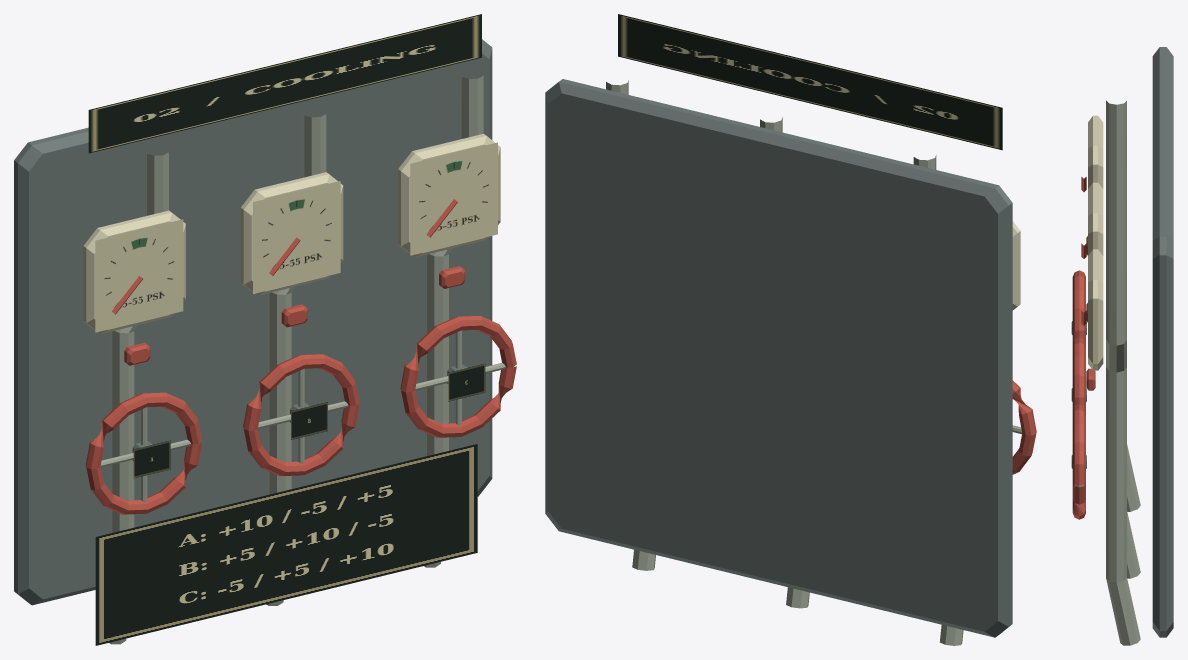
The model's file is pressure-station.glb.
The picture shows the model from 3 angles, left to right: view 1: azimuth 30°, elevation 25°; view 2: azimuth 150°, elevation 25°; view 3: azimuth 270°, elevation 25°; orthographic projection. The views are drawn at different scales.
Visible parts, largest first — view 1: PipeBackplate, CouplingClue, DialFace (×3), PressureTitle, CoolingLine_2, CoolingLine_0, CoolingLine_1, Valve_1_rim, Valve_2_rim, Valve_0_rim, Gauge_1, Gauge_2 (+7 smaller); view 2: PipeBackplate, PressureTitle, Valve_0_rim, Gauge_0; view 3: PipeBackplate, CoolingLine_2, CoolingLine_1, CoolingLine_0, Gauge_2, Valve_2_rim, Gauge_0, Gauge_1, Valve_1_rim, Valve_0_rim, PressureIndicator_2.
Part boxes in pixels (x1=…): PipeBackplate: x1=14, y1=39, x2=492, y2=605; CouplingClue: x1=95, y1=444, x2=477, y2=645; DialFace (×3): x1=95, y1=142, x2=497, y2=332; PressureTitle: x1=88, y1=14, x2=481, y2=153; CoolingLine_2: x1=424, y1=73, x2=483, y2=567; CoolingLine_0: x1=109, y1=150, x2=168, y2=644; CoolingLine_1: x1=266, y1=112, x2=326, y2=605; Valve_1_rim: x1=243, y1=354, x2=359, y2=476; Valve_2_rim: x1=400, y1=316, x2=516, y2=437; Valve_0_rim: x1=85, y1=392, x2=201, y2=514; Gauge_1: x1=240, y1=172, x2=343, y2=295; Gauge_2: x1=398, y1=133, x2=500, y2=257; PipeBackplate: x1=545, y1=79, x2=1012, y2=637; PressureTitle: x1=618, y1=14, x2=1002, y2=150; Valve_0_rim: x1=1012, y1=380, x2=1036, y2=474; Gauge_0: x1=1012, y1=221, x2=1020, y2=310; PipeBackplate: x1=1152, y1=47, x2=1173, y2=637; CoolingLine_2: x1=1106, y1=234, x2=1140, y2=645; CoolingLine_1: x1=1106, y1=167, x2=1140, y2=578; CoolingLine_0: x1=1106, y1=100, x2=1140, y2=511; Gauge_2: x1=1088, y1=249, x2=1103, y2=370; Valve_2_rim: x1=1072, y1=404, x2=1085, y2=519; Gauge_0: x1=1088, y1=115, x2=1103, y2=188; Gauge_1: x1=1088, y1=182, x2=1103, y2=255; Valve_1_rim: x1=1072, y1=337, x2=1085, y2=409; Valve_0_rim: x1=1072, y1=270, x2=1085, y2=343; PressureIndicator_2: x1=1086, y1=368, x2=1095, y2=390.
Bounding box in the file's own units: 2.05 × 2.27 × 0.465.
10 materials, 6 textured.
